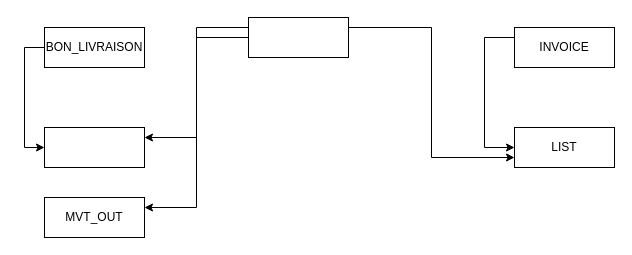
This 632x255 diagram has some shape labels left out. Here are the shapes that lost their labels. From the top down, the box of each, then its label:
(248, 16, 348, 58): PRODUCT
(44, 126, 144, 168): LOT
